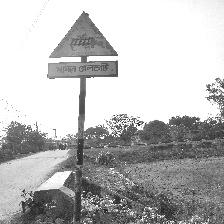Rail-crossing: (48, 11, 119, 79)
